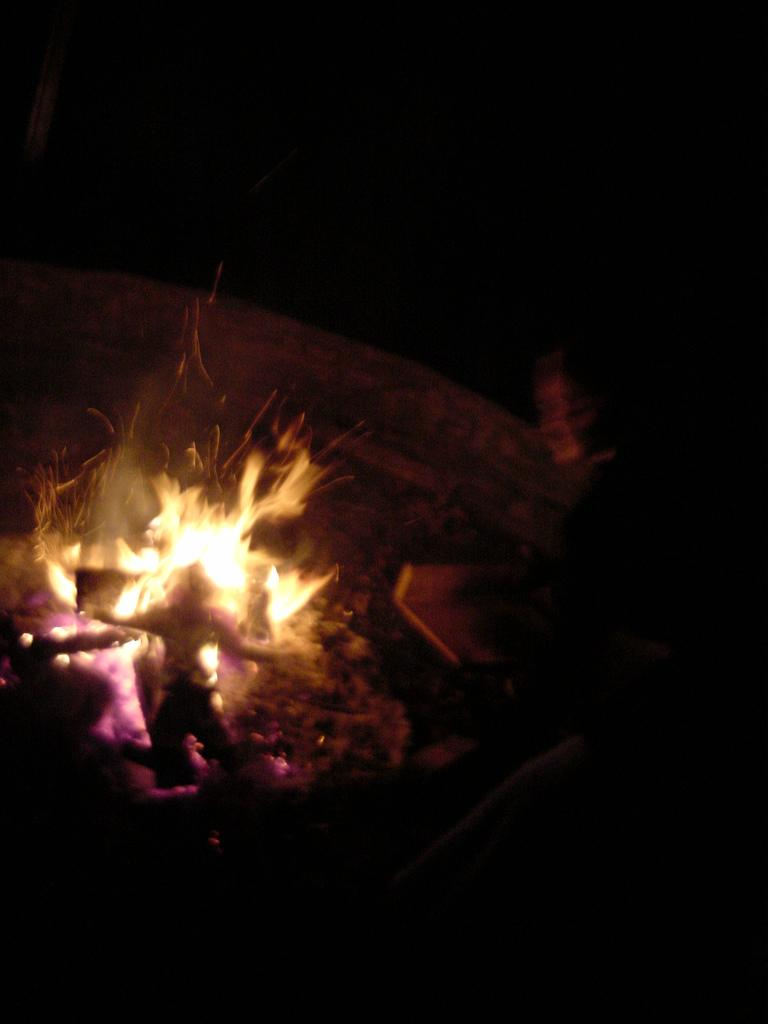fire: (100, 515, 305, 668)
